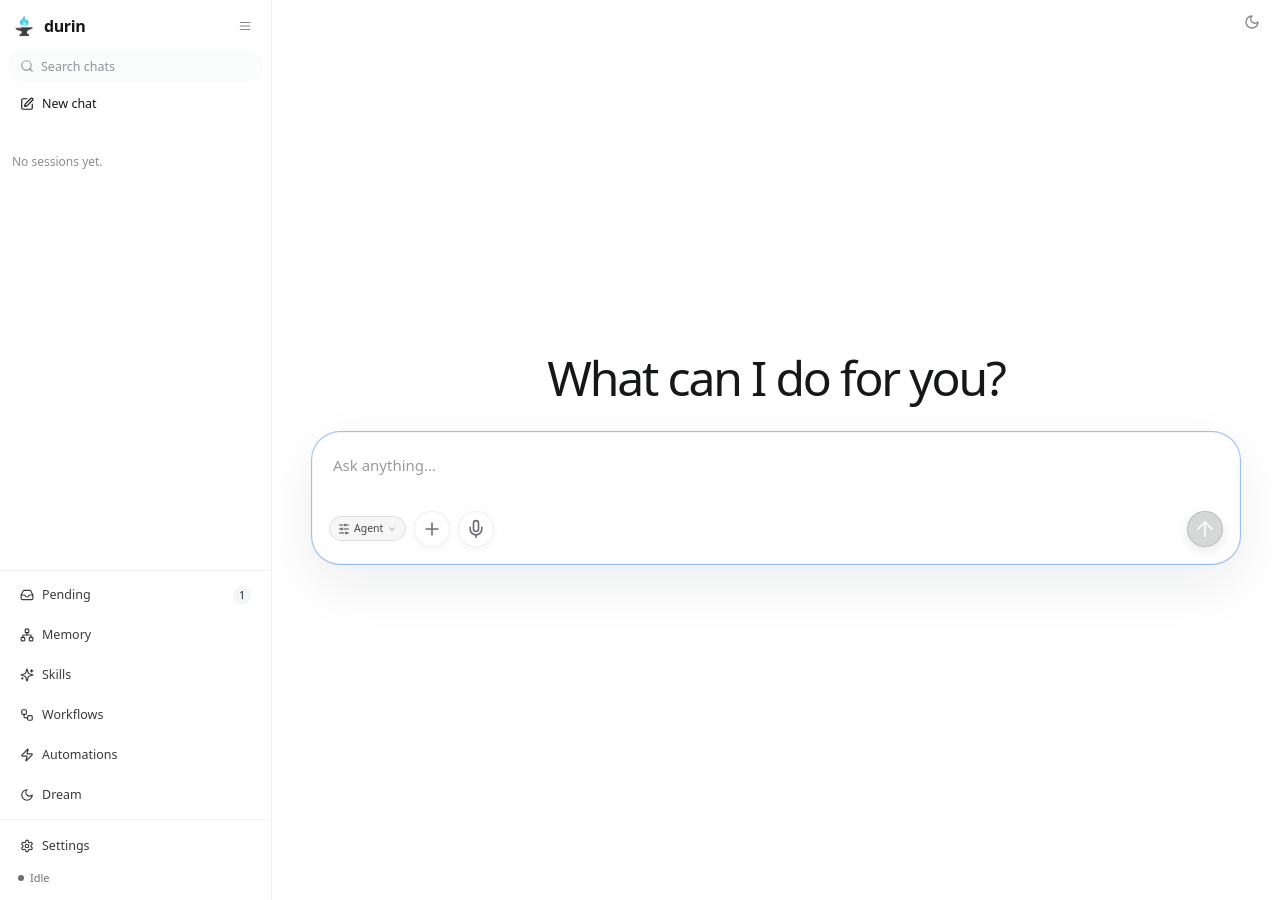
App layout › refreshes the Pending badge when an item is resolved there
Expected: the text "1" is shown, [233,586,251,604]
Click the button "Pending 1" at (136, 595), box [10,579,261,611]
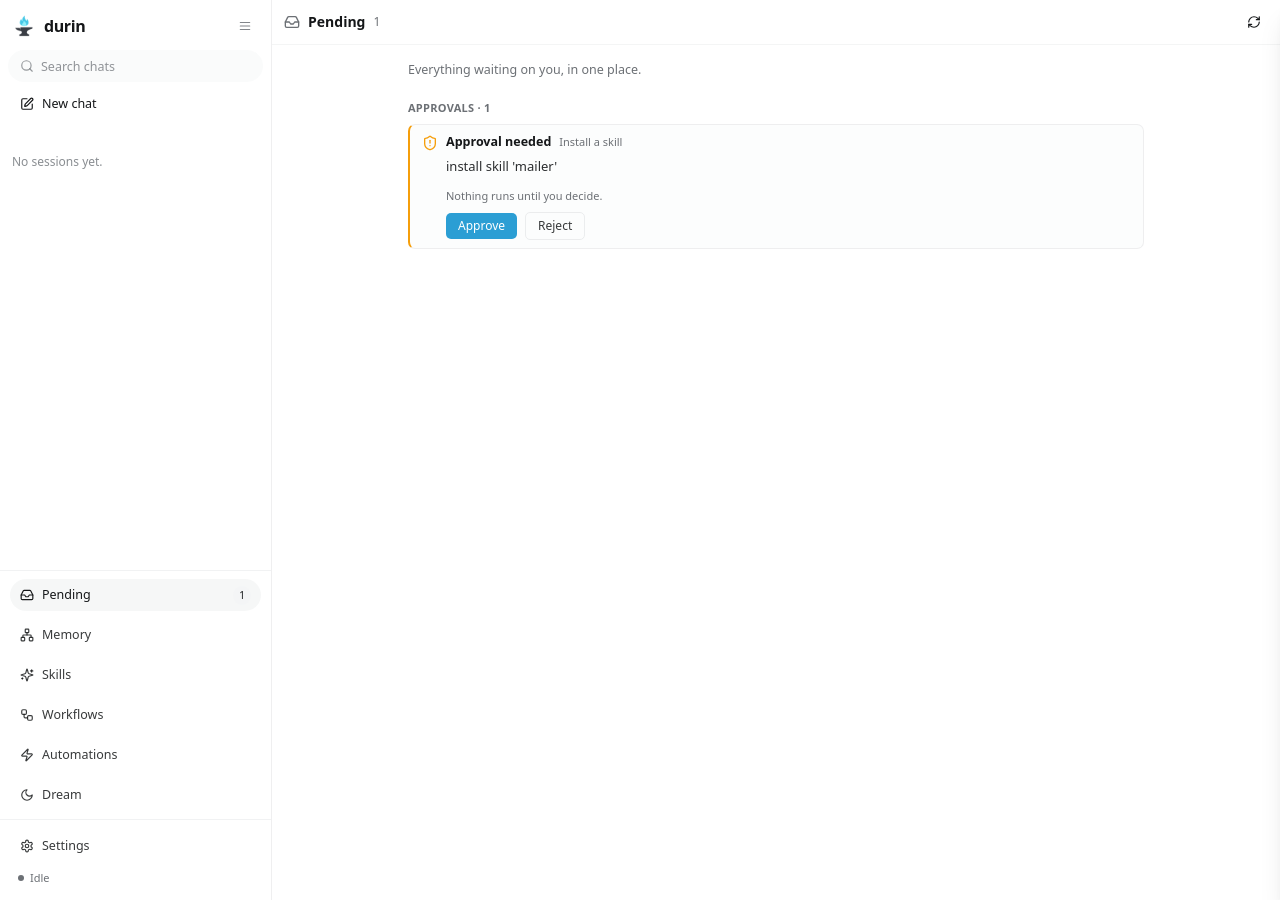
Click the button "Approve" at (482, 226), box [446,213,517,239]
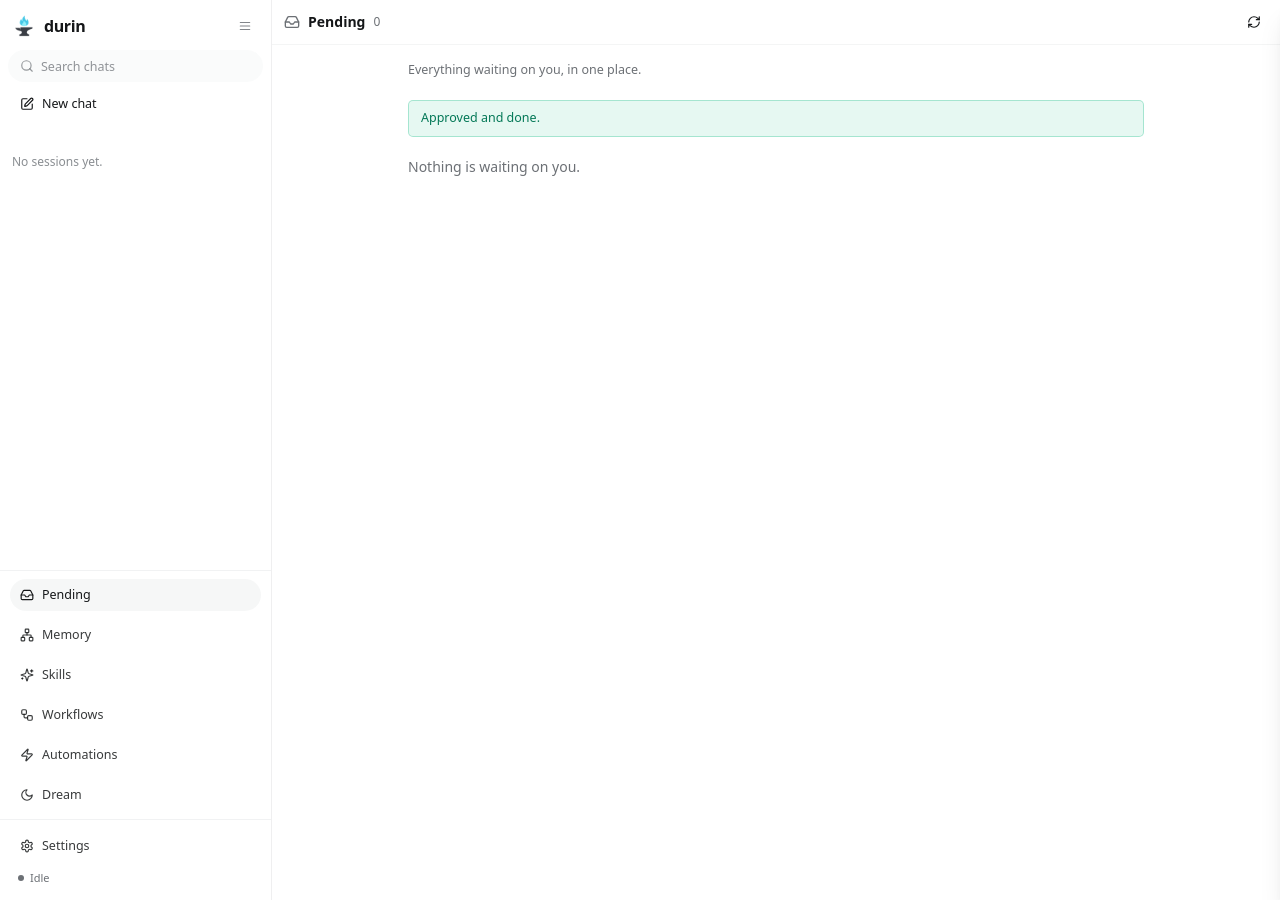
Now the text "1" is gone
